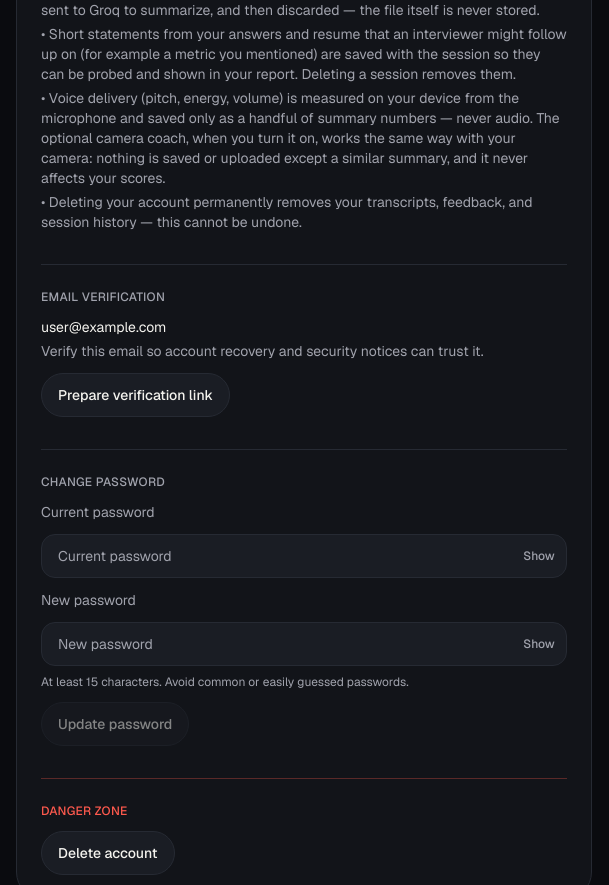
AccountPrivacyPanel › requires a confirmation step before deleting the account
The image size is (609, 885).
(page scrolled)
Expected: the text "permanently deletes your account" is not shown
Click the button "Delete account".
click(108, 853)  # box x1=41 y1=831 x2=174 y2=875
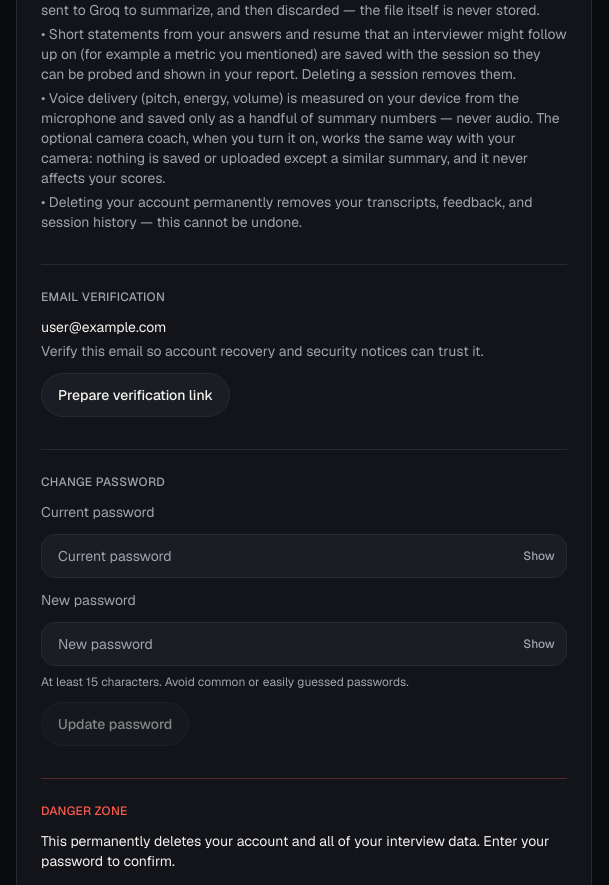
Result: the text "permanently deletes your account" is shown at x1=41 y1=832 x2=549 y2=870
